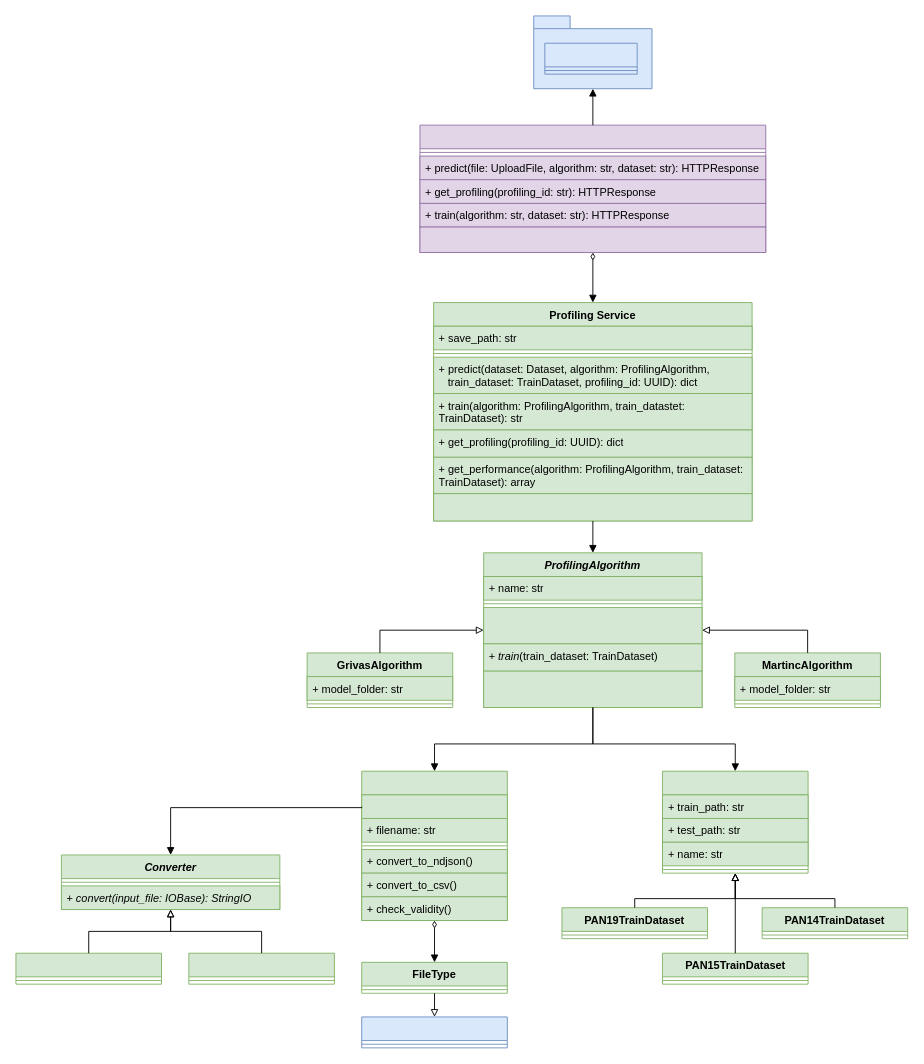
Image size: 924x1064. Some labels were removed from this diagram. Each missing label, with the box of its shape:
+ file: IOBase: (361, 794, 507, 819)
+ get_algorithm_names(): array: (433, 493, 752, 521)
+ get_performance (train_dataset: TrainDataset): dict: (483, 670, 702, 708)
+ get_performance(algorithm: str, dataset: str): HTTPResponse: (419, 226, 766, 253)
+ predict (dataset: Dataset, train_dataset: TrainDataset): dict: (483, 607, 702, 644)
Controller: (419, 124, 766, 253)
CsvToNdjsonConverter: (15, 952, 162, 984)
Enum: (361, 1016, 507, 1048)
FastAPI: (544, 42, 637, 74)
NdjsonToCsvConverter: (188, 952, 334, 984)
PredictDataset: (361, 770, 507, 920)
TrainDataset: (662, 770, 808, 873)
